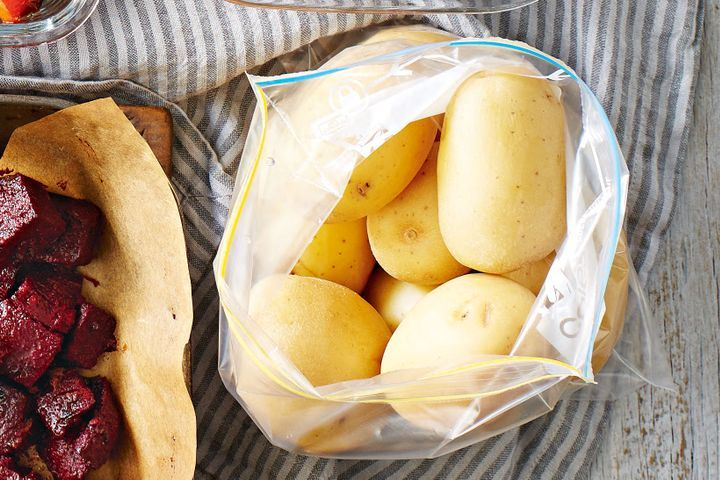boiled potatoes: (448, 73, 568, 269), (377, 272, 546, 377), (261, 267, 375, 391), (374, 153, 457, 279)
